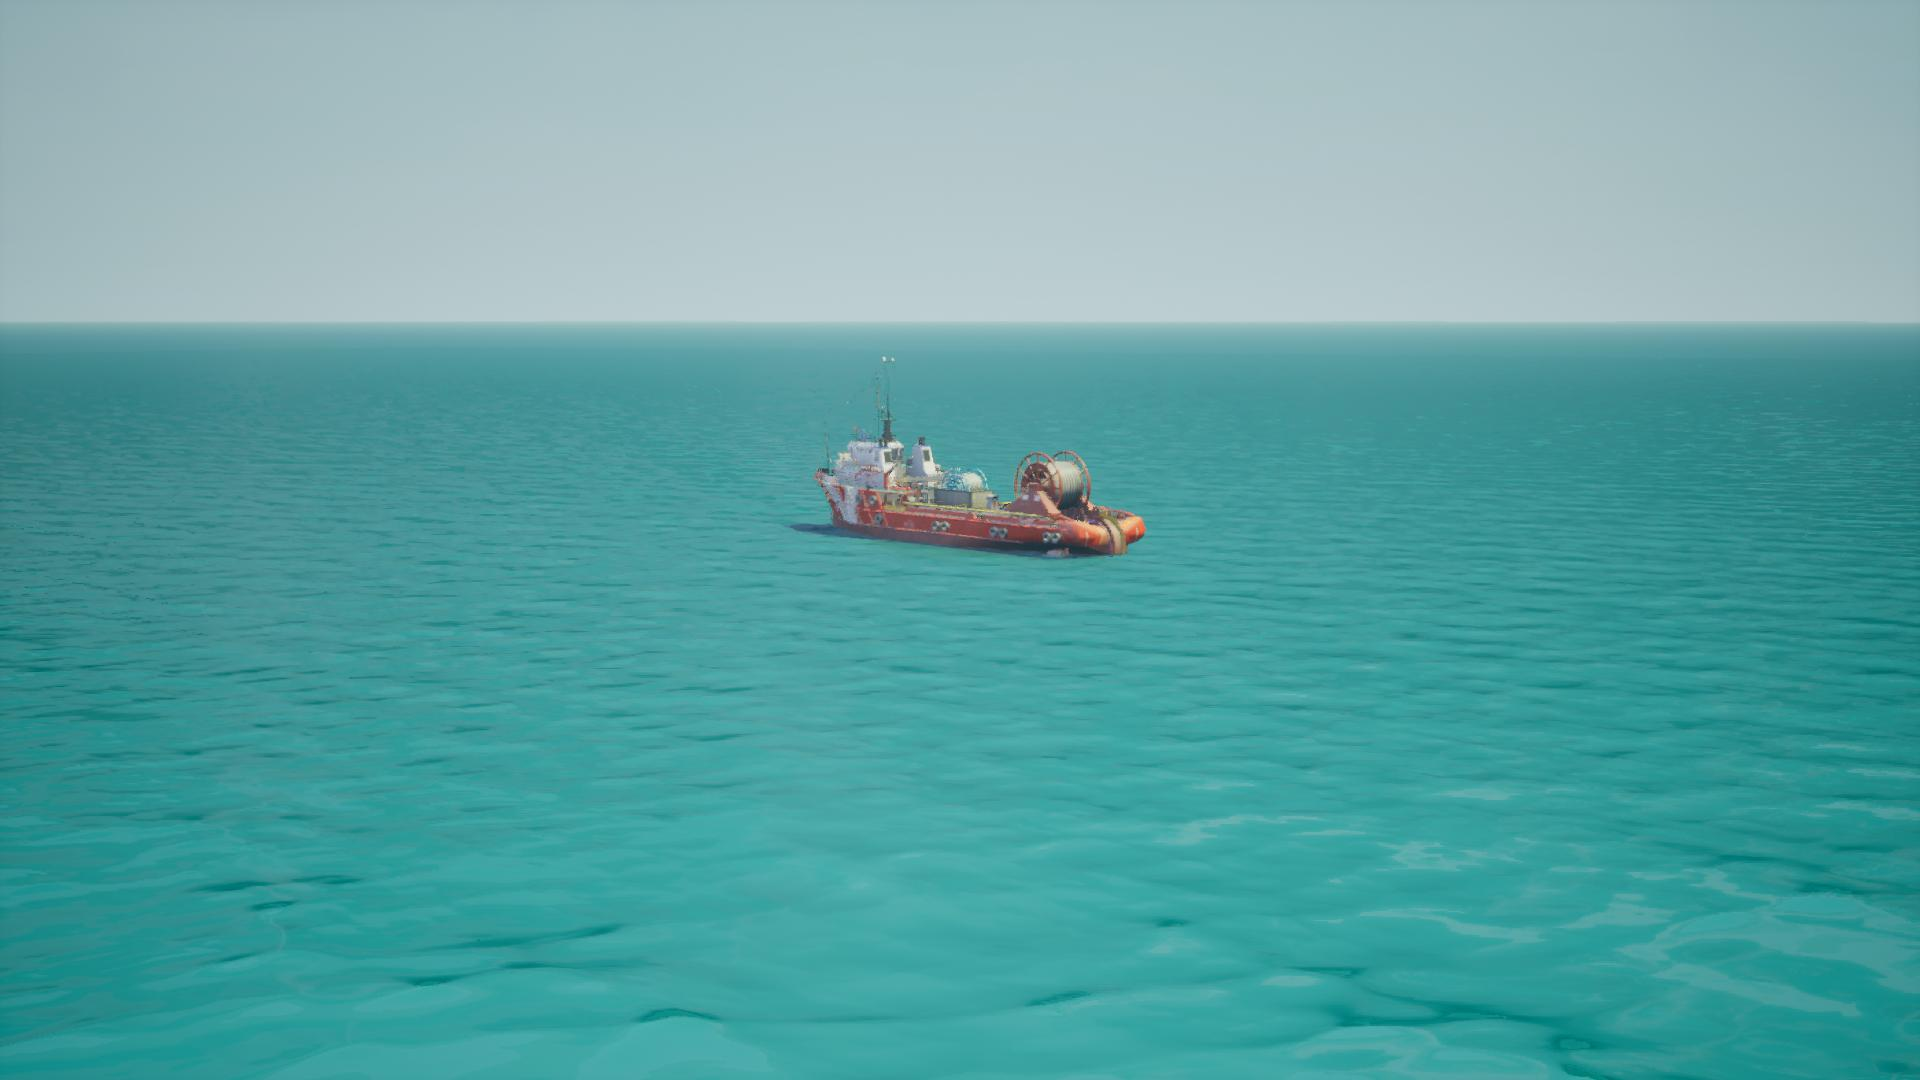Tug Boat: (798, 360, 1133, 562)
